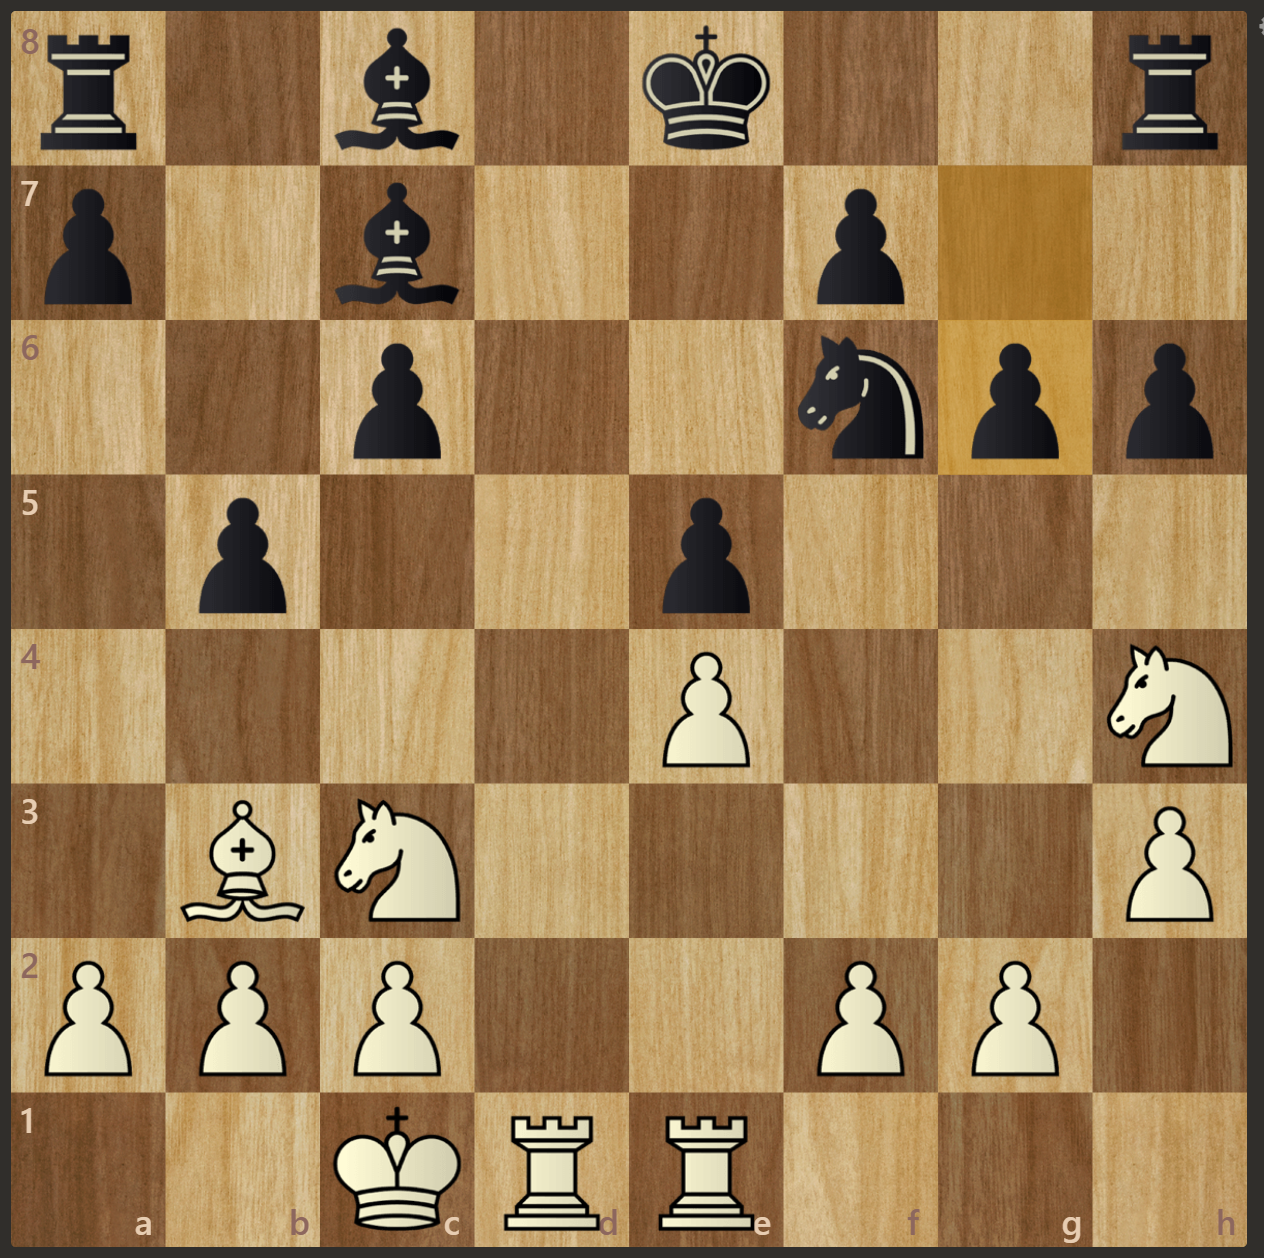beyaz_at: (1098, 632, 1248, 775), (317, 789, 464, 930)
beyaz_fil: (168, 786, 310, 925)
beyaz_kale: (635, 1099, 774, 1246), (480, 1099, 625, 1240)
beyaz_piyon: (1098, 789, 1248, 932), (15, 939, 154, 1085), (636, 638, 781, 776), (175, 943, 312, 1085), (941, 943, 1080, 1082), (325, 950, 471, 1078), (795, 939, 923, 1082)
beyaz_sah: (321, 1102, 464, 1244)
siyah_at: (788, 323, 936, 472)
siyah_fil: (328, 20, 474, 157), (325, 176, 471, 312)
siyah_kale: (7, 12, 164, 159), (1102, 18, 1239, 156)
siyah_piyon: (171, 483, 318, 626), (635, 483, 784, 624), (945, 319, 1087, 467), (15, 175, 161, 312), (1105, 321, 1242, 465), (790, 173, 930, 310), (332, 331, 469, 465)
siyah_sah: (628, 9, 770, 153)
